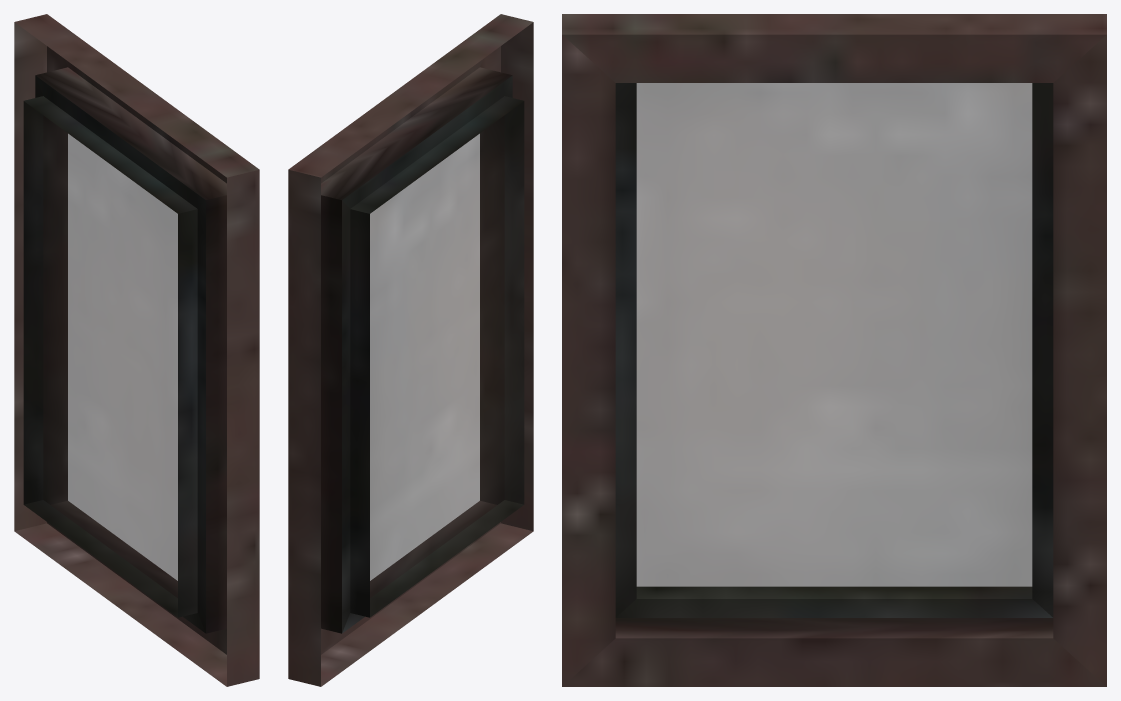
The model's file is SingleWindow.FBX.
3 renders of one model, left to right at view 1: azimuth 30°, elevation 25°; view 2: azimuth 150°, elevation 25°; view 3: azimuth 270°, elevation 25°, orthographic. The views are drawn at different scales.
Visible parts, largest first — view 1: SingleWindow; view 2: SingleWindow; view 3: SingleWindow.
Boxes of the visible parts, <box> form: SingleWindow: <box>14,14,259,686</box>; SingleWindow: <box>288,14,533,686</box>; SingleWindow: <box>562,14,1106,686</box>.
Size of the model in its own units: 18.02 by 167 by 126.
